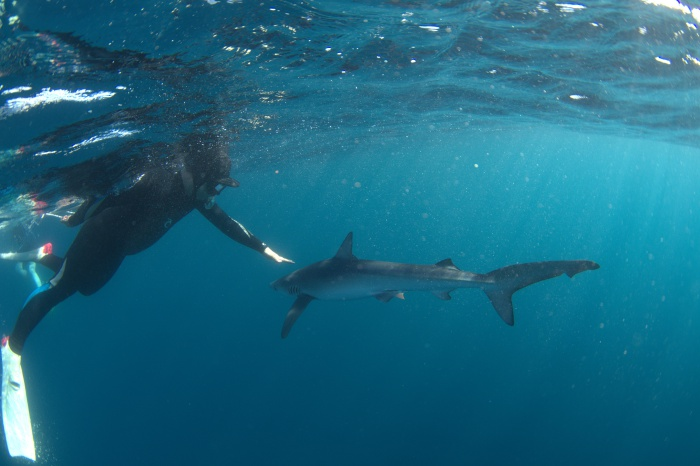Azul: (254, 226, 607, 356)
